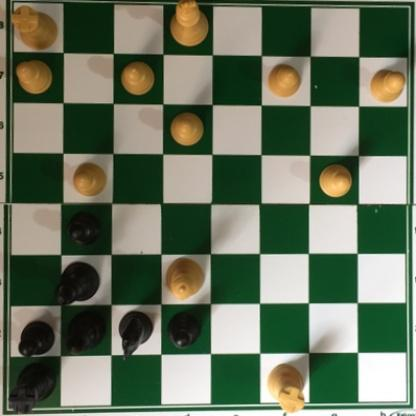black-bishop: (65, 311, 104, 359)
black-king: (54, 261, 103, 307)
black-knight: (116, 311, 155, 362)
black-pawn: (18, 320, 56, 359), (168, 311, 203, 349), (68, 210, 103, 246)
black-rook: (12, 361, 60, 415)
white-king: (169, 0, 215, 50)
white-pawn: (266, 61, 305, 102), (14, 57, 55, 95), (118, 59, 157, 98), (169, 109, 205, 148), (368, 71, 408, 106), (70, 162, 108, 198), (318, 163, 354, 198)
white-queen: (165, 256, 207, 302)
white-rook: (11, 5, 62, 55), (268, 361, 311, 414)
